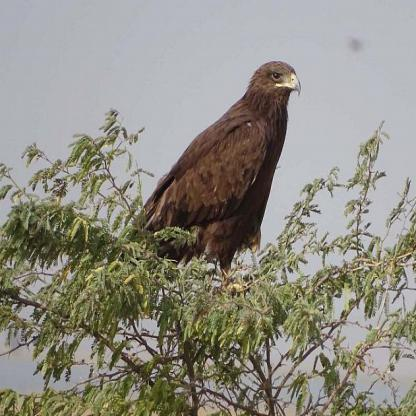Burung: (126, 59, 300, 283)
